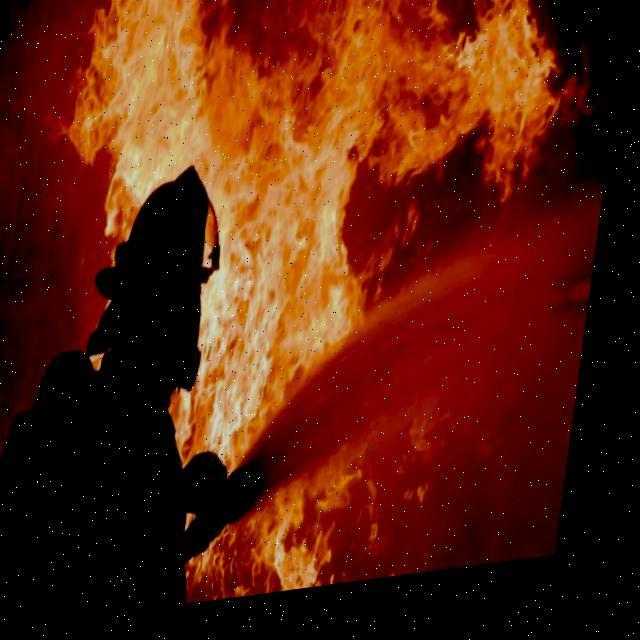Fire: (0, 0, 612, 639)
